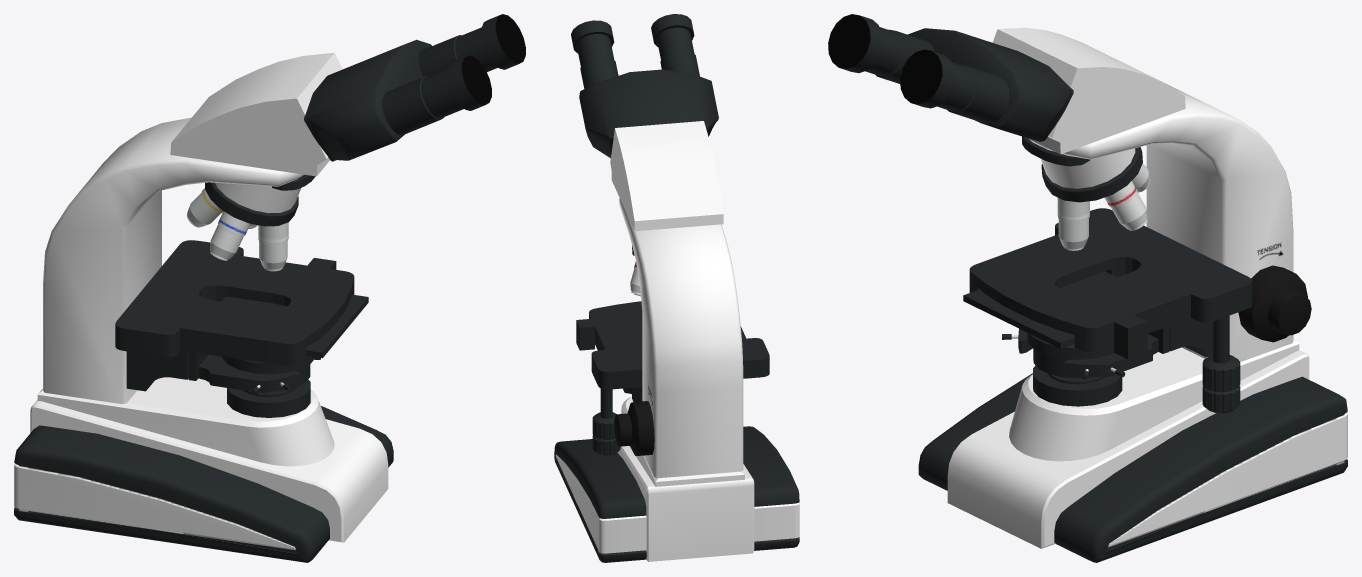
File: microscopio.glb
3 views of the same model, side by side, from view 1: azimuth 30°, elevation 25°; view 2: azimuth 150°, elevation 25°; view 3: azimuth 270°, elevation 25° (orthographic). The views are drawn at different scales.
Parts seen in each view (by area): view 1: Microscope; view 2: Microscope; view 3: Microscope.
Part boxes in pixels (x1,y1,x2,y2): Microscope: [14, 14, 525, 562]; Microscope: [554, 14, 799, 562]; Microscope: [828, 14, 1347, 562].
Bounding box in the file's own units: 2.56 × 3.04 × 2.71.
Materials: 1 (1 with a texture image).
